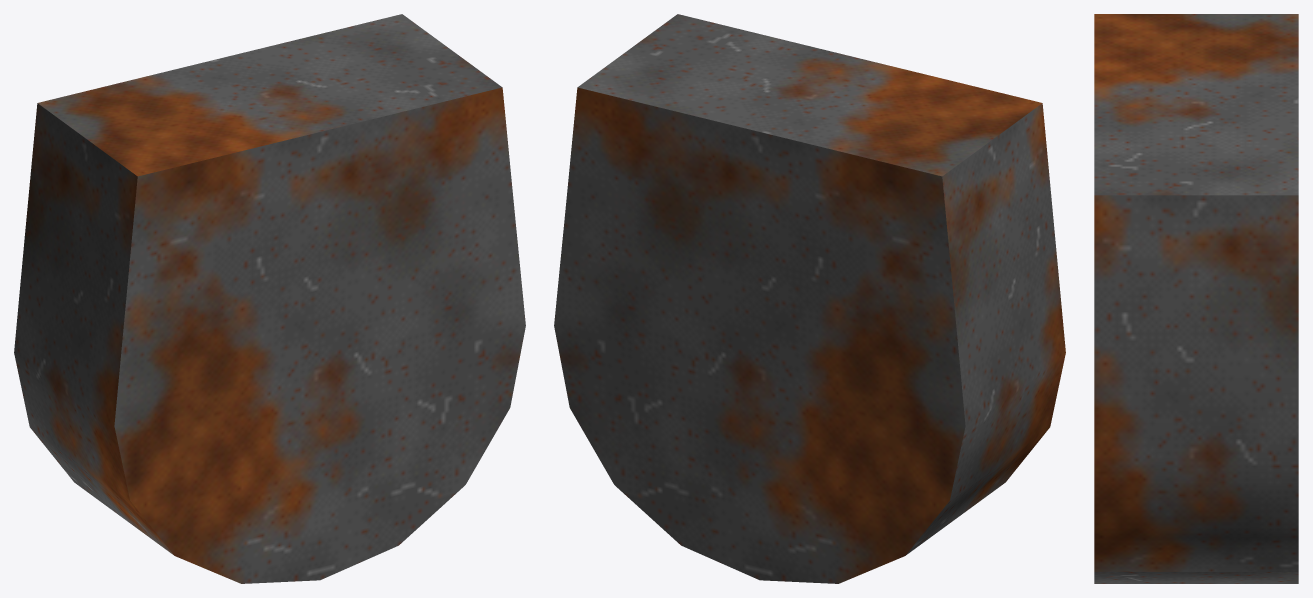
The model's file is Lock.fbx.
The picture shows the model from 3 angles, left to right: view 1: azimuth 30°, elevation 25°; view 2: azimuth 150°, elevation 25°; view 3: azimuth 270°, elevation 25°; orthographic projection.
Parts seen in each view (by area): view 1: Lock; view 2: Lock; view 3: Lock.
Part boxes in pixels (left/top/right/bottom): Lock: left=14, top=14, right=525, bottom=583; Lock: left=554, top=14, right=1065, bottom=583; Lock: left=1094, top=14, right=1298, bottom=583.
Size of the model in its own units: 0.1857 by 0.1933 by 0.0784.
Materials: 1 (1 with a texture image).
